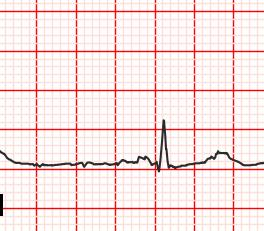LVH: (193, 147, 243, 168)
